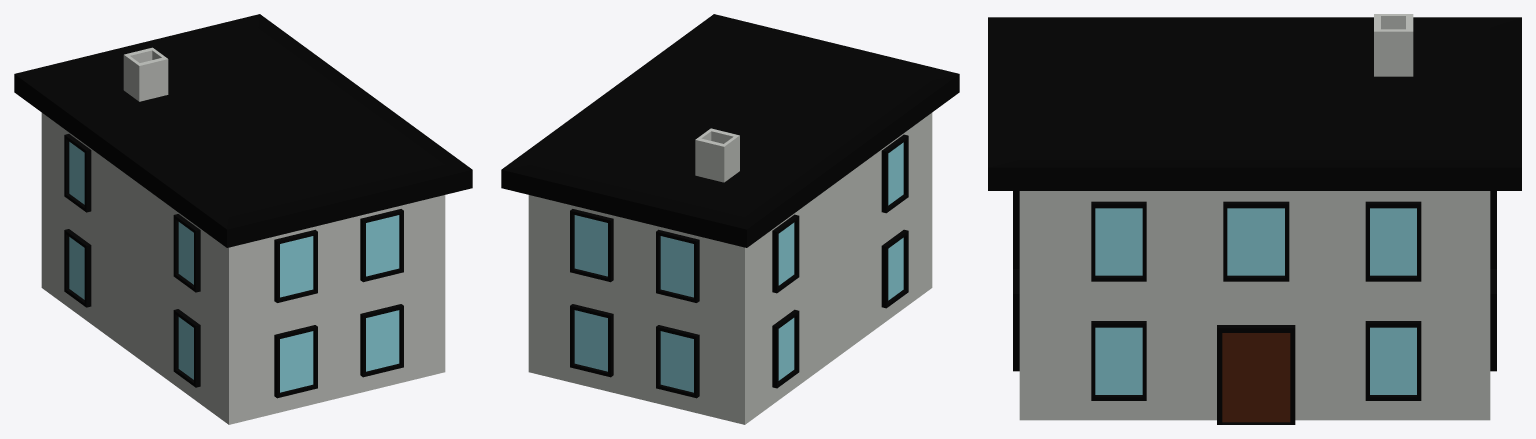
The model's file is Houses02.fbx.
3 renders of one model, left to right at view 1: azimuth 30°, elevation 25°; view 2: azimuth 150°, elevation 25°; view 3: azimuth 270°, elevation 25°, orthographic. The views are drawn at different scales.
Parts seen in each view (by area): view 1: Plane.005; view 2: Plane.005; view 3: Plane.005.
Boxes of the visible parts, x1,y1,x2,y2 form: Plane.005: [14, 14, 472, 424]; Plane.005: [501, 14, 959, 424]; Plane.005: [988, 14, 1521, 424].
Bounding box in the file's own units: 400 × 380 × 600.
